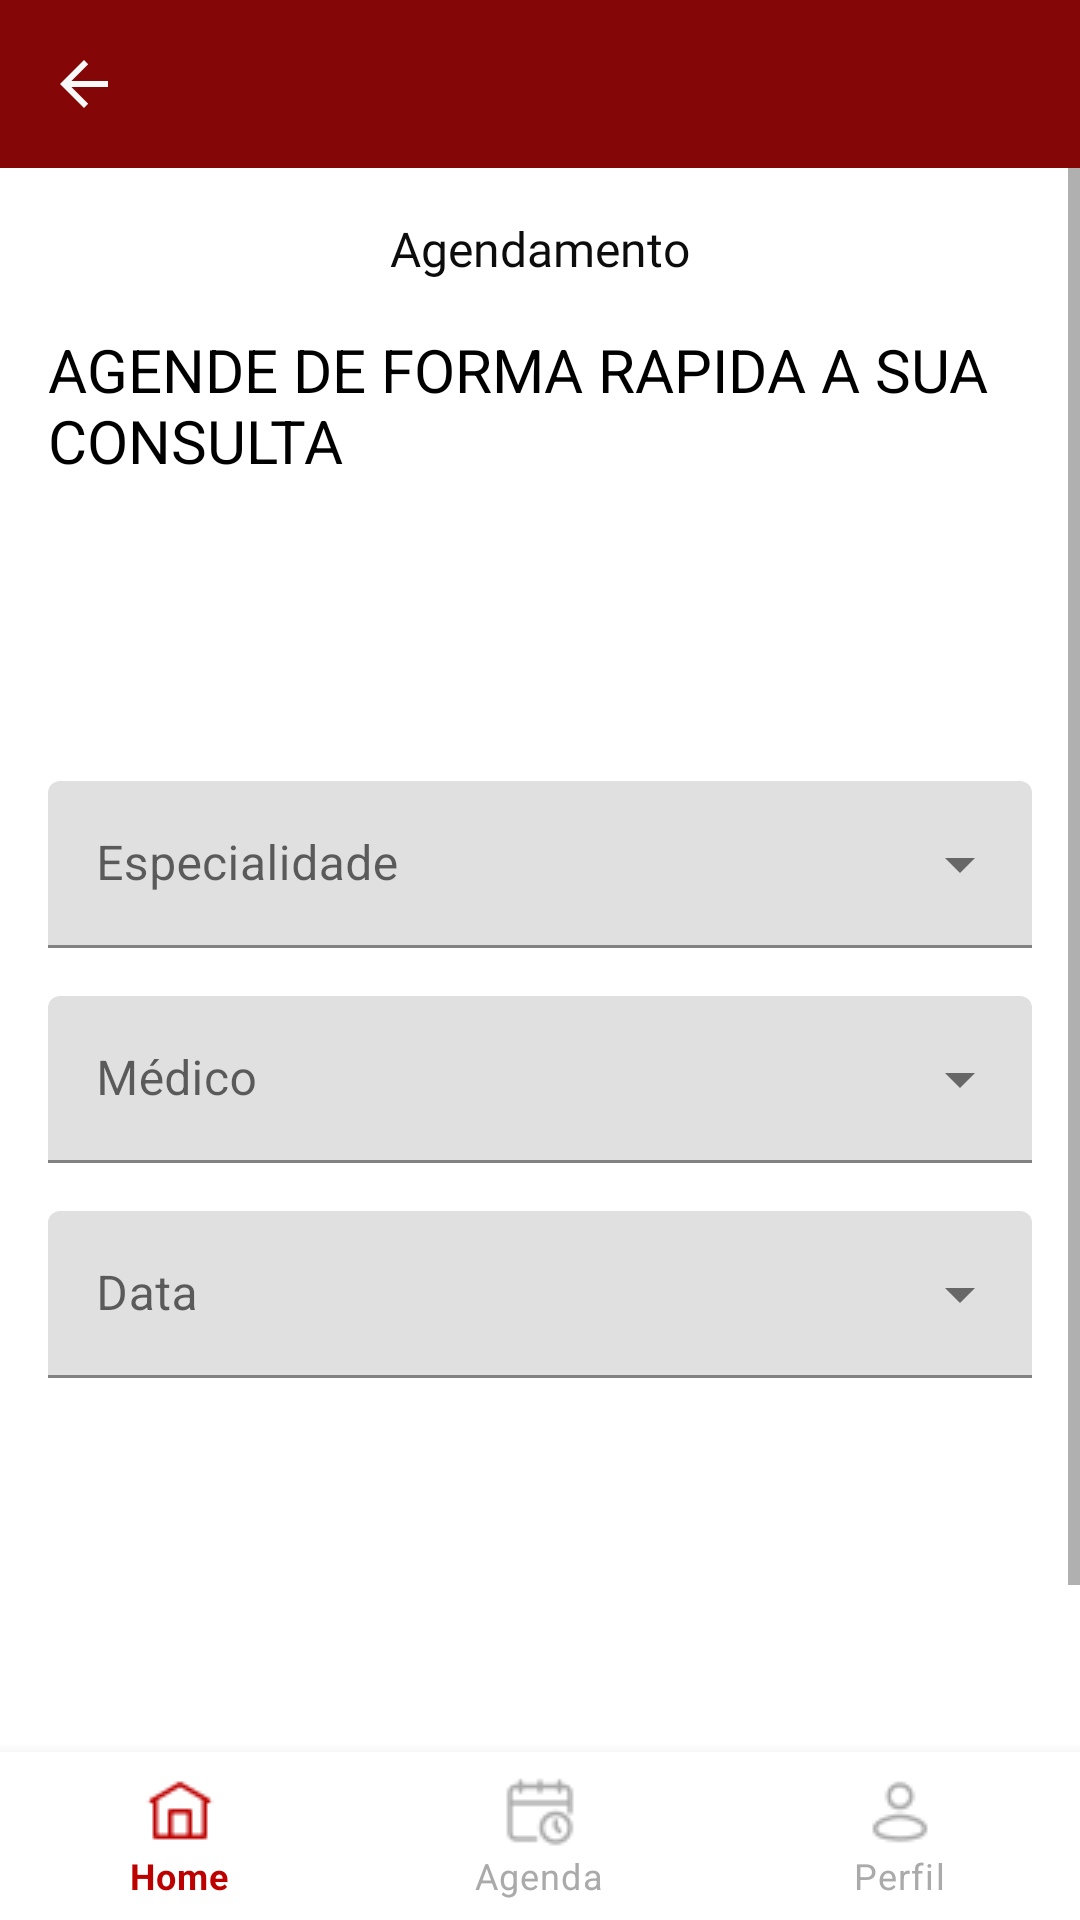

Named icons in this screenshot (1080px×1920px) and their centers, [x,y]:
ab back: [84,84]
